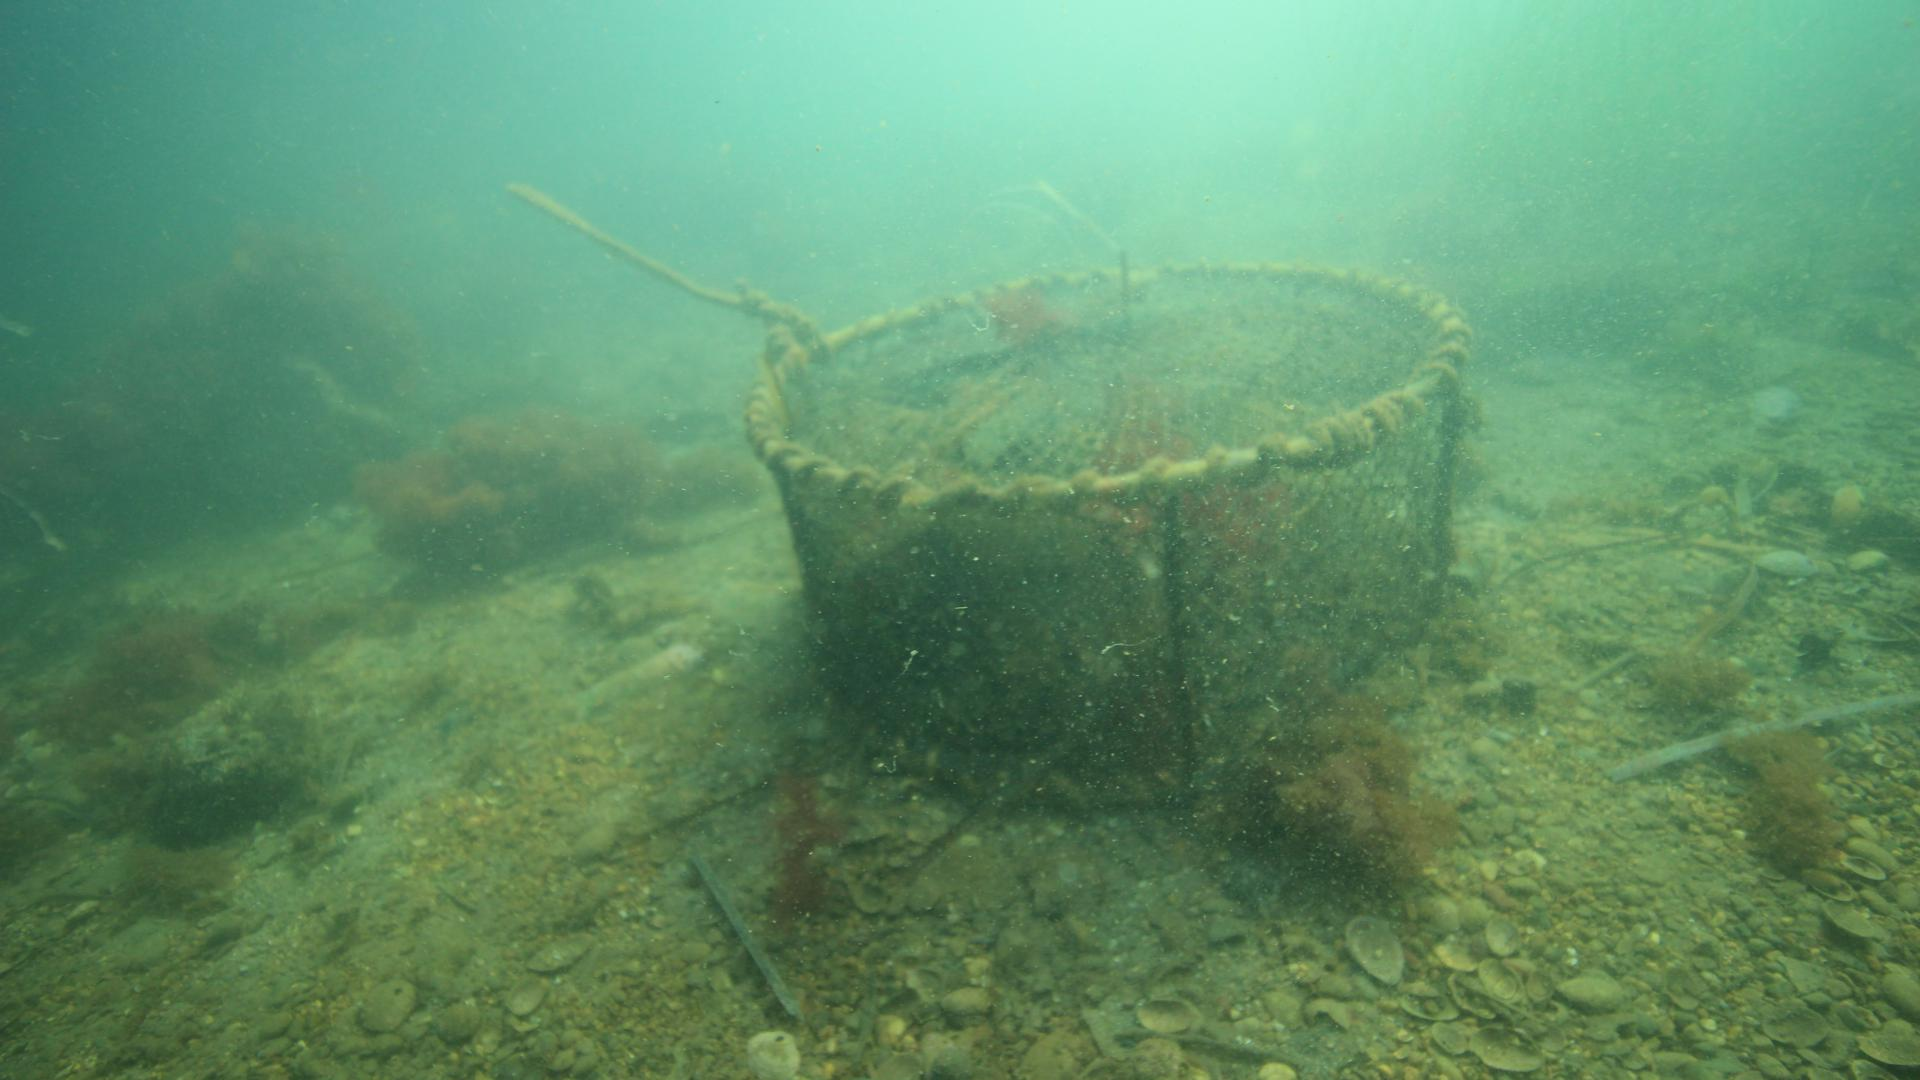circular fish trap: (741, 256, 1470, 808)
rope: (502, 181, 815, 345)
